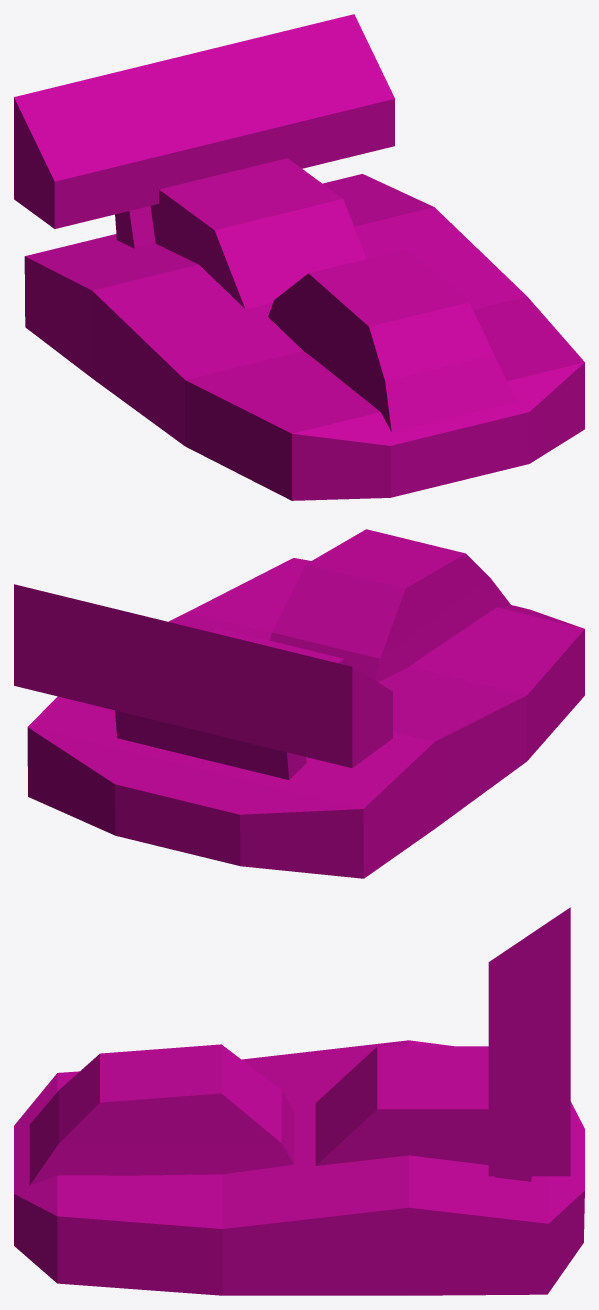
The model's file is SM_Veh_Kart_01_Preset_04_Collision.fbx.
3 renders of one model, top to bottom at view 1: azimuth 30°, elevation 25°; view 2: azimuth 150°, elevation 25°; view 3: azimuth 270°, elevation 25°, orthographic.
Parts seen in each view (by area): view 1: SM_Veh_Kart_01_Preset_04_Collision; view 2: SM_Veh_Kart_01_Preset_04_Collision; view 3: SM_Veh_Kart_01_Preset_04_Collision.
Boxes of the visible parts, bbox=[...] form: SM_Veh_Kart_01_Preset_04_Collision: bbox=[14, 14, 584, 500]; SM_Veh_Kart_01_Preset_04_Collision: bbox=[14, 529, 584, 878]; SM_Veh_Kart_01_Preset_04_Collision: bbox=[14, 907, 584, 1295].
Size of the model in its own units: 142 by 87.51 by 204.
